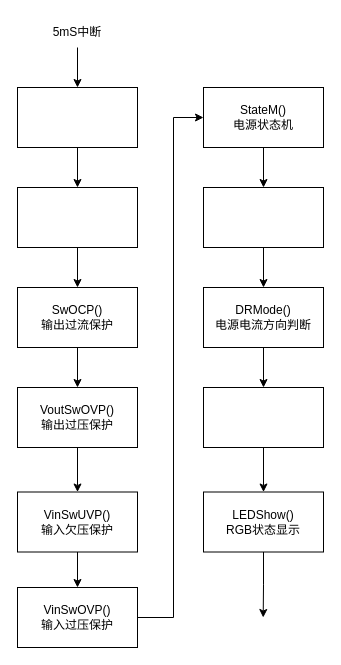
Image size: 341x665. Some labels were removed from this diagram. Each missing label, with the centre of its shape:
BBMode() 电源工作模式判断: point (263, 417)
IPSShowCnt++ IPS刷新计数: point (77, 117)
KEYFlag() 按键检测: point (263, 217)
ShortOff() 短路保护: point (77, 217)
